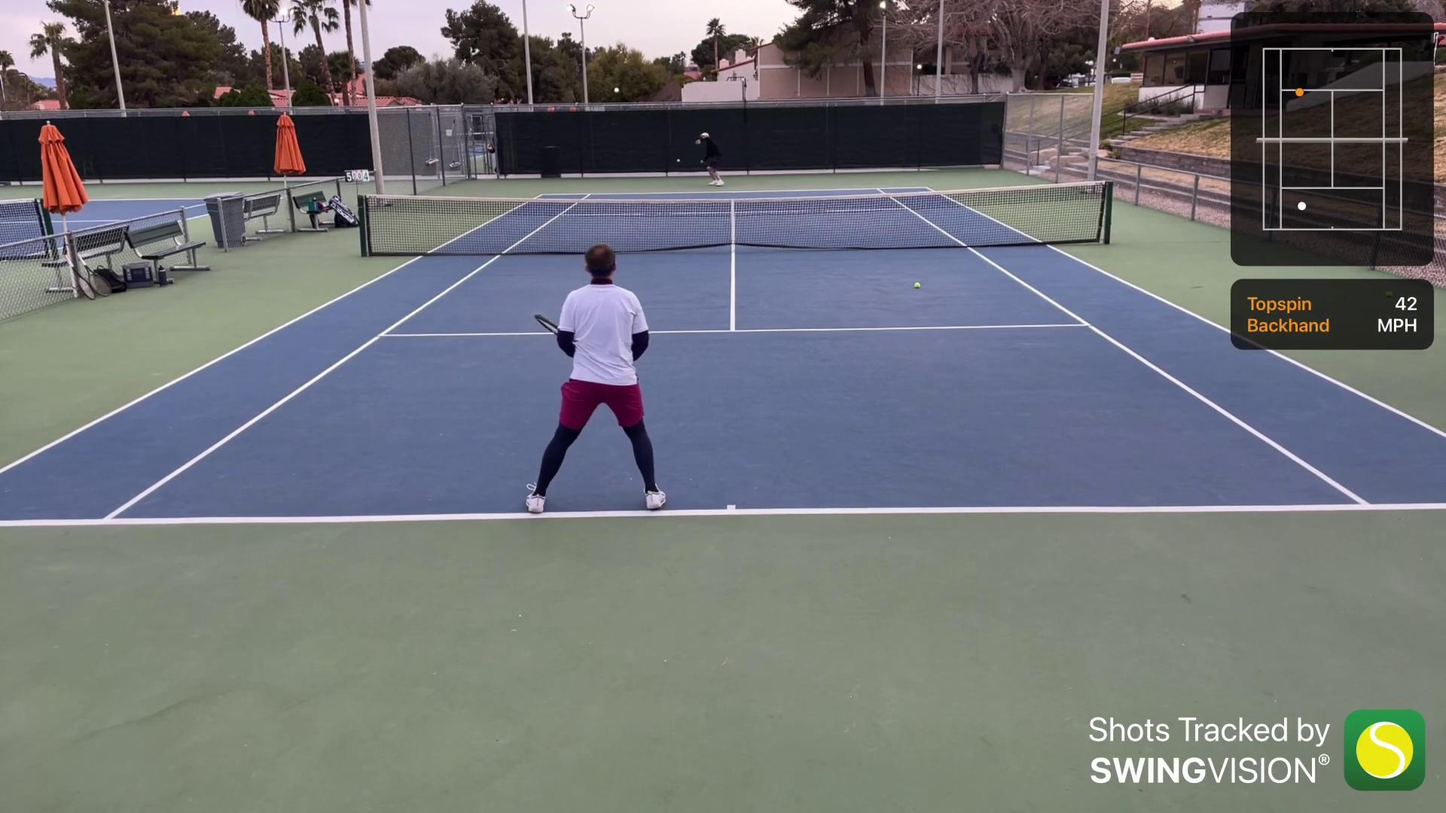ball: (911, 280, 923, 290), (675, 157, 684, 164), (340, 359, 346, 364)
